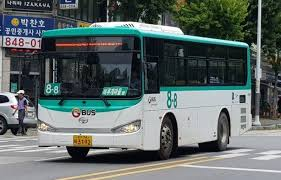bnum: (45, 83, 59, 94)
